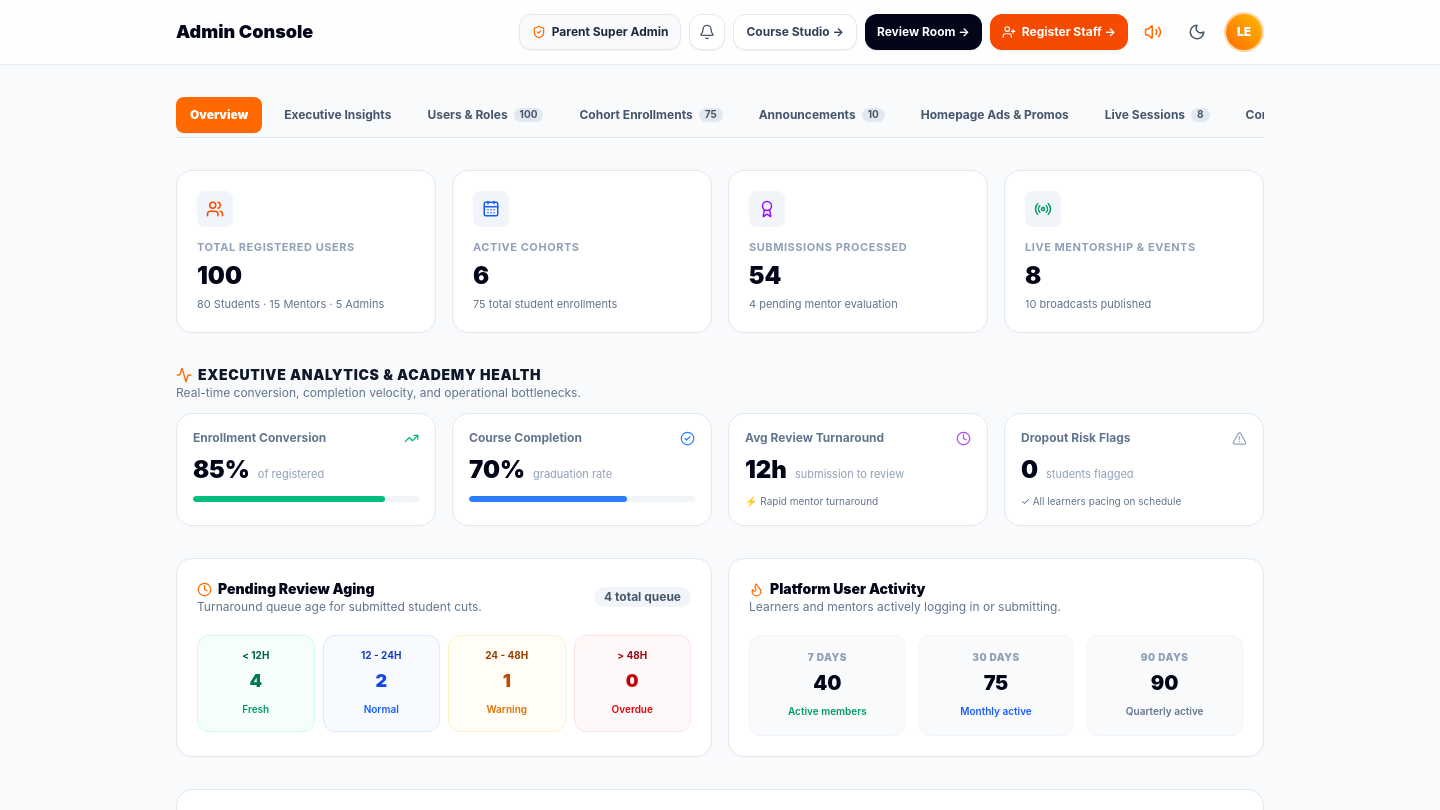
Test: Course Demand & Enrollment Distribution Visual Report UI › renders Course Demand section in Executive Insights tab with ranking and metrics
// Click on Executive Insights tab
Step 1. Click the button "Executive Insights" → (338, 115), box [270,97,405,133]
(page scrolled)
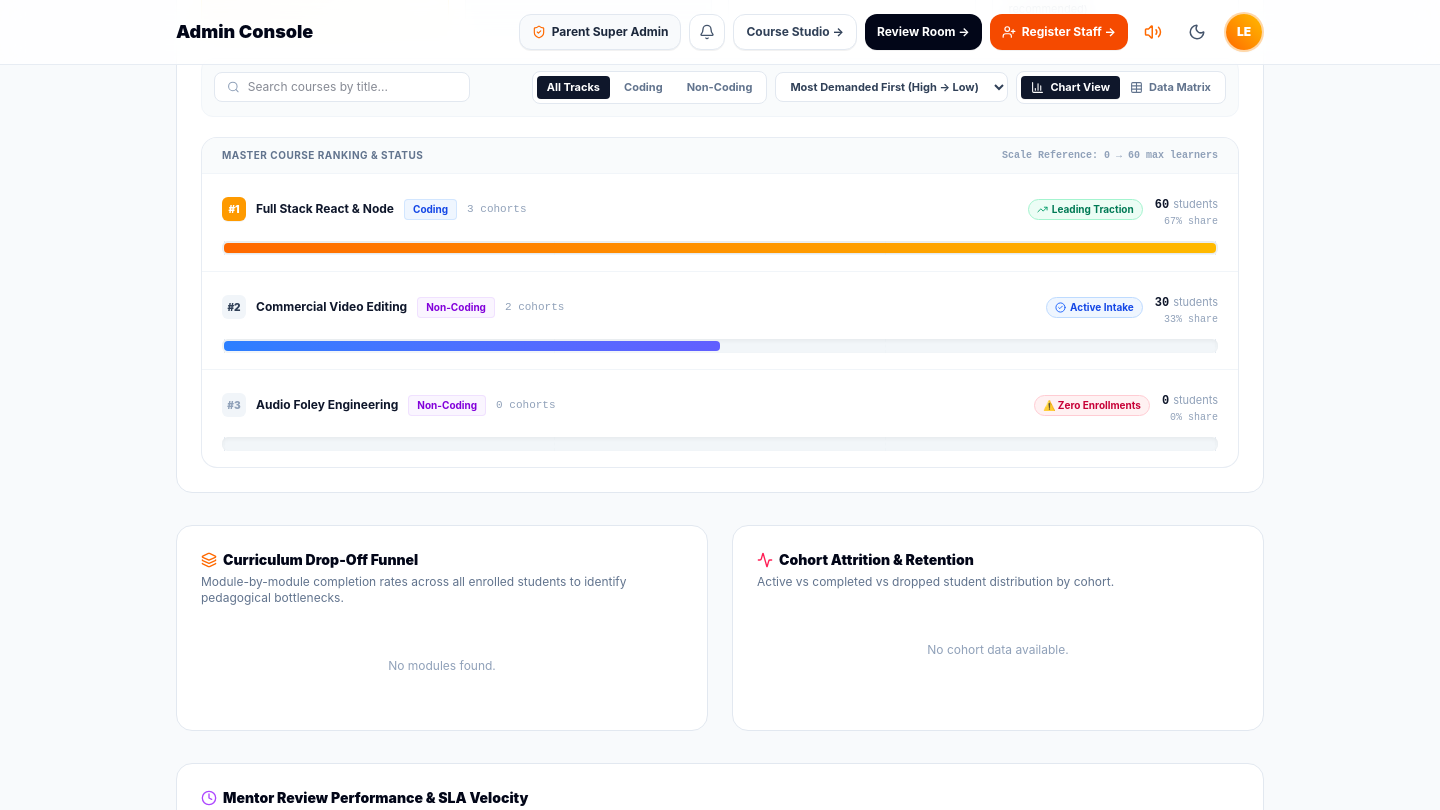
Expected: the text "⚠️ Zero Enrollments" is shown, [1034,395,1150,416]
